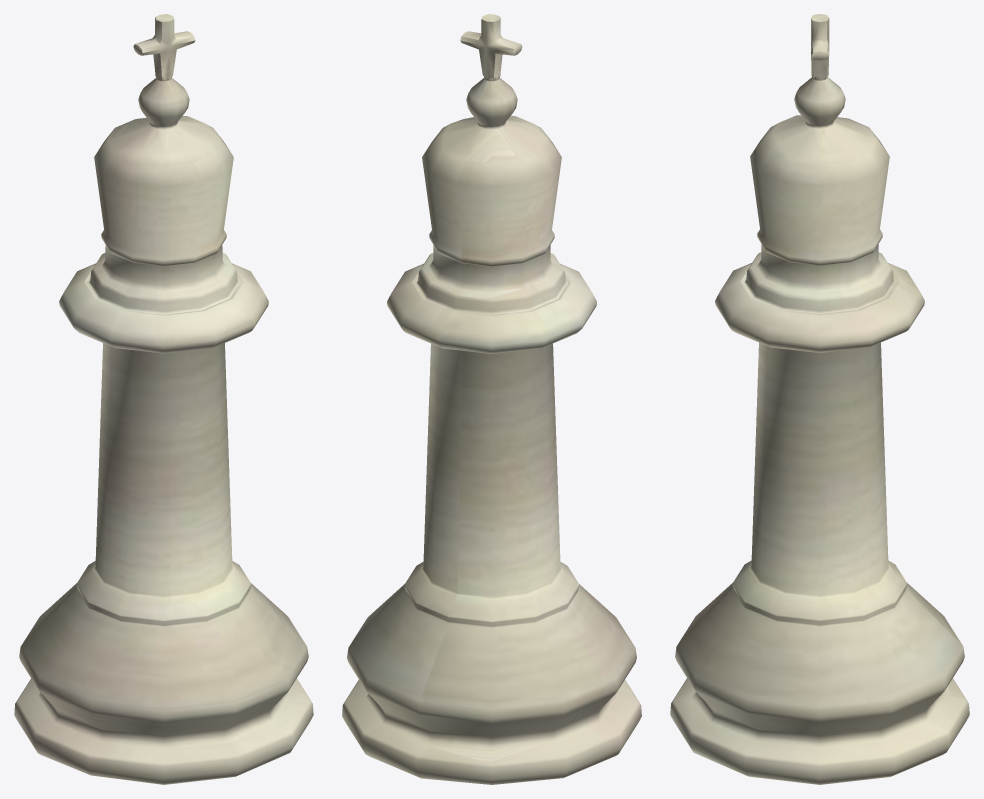
File: King.obj
The picture shows the model from 3 angles, left to right: view 1: azimuth 30°, elevation 25°; view 2: azimuth 150°, elevation 25°; view 3: azimuth 270°, elevation 25°; orthographic projection.
Visible parts, largest first — view 1: mesh01; view 2: mesh01; view 3: mesh01.
Part boxes in pixels (box(x1,y1,x2,y2)): mesh01: box(14, 14, 313, 784); mesh01: box(342, 14, 641, 784); mesh01: box(670, 14, 969, 784).
Bounding box in the file's own units: 14.6 × 38.09 × 14.6.
1 material, 1 textured.
